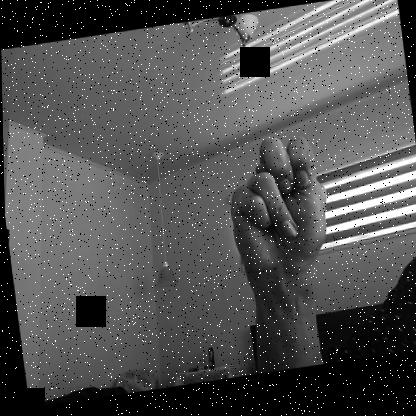N: (219, 131, 335, 291)
